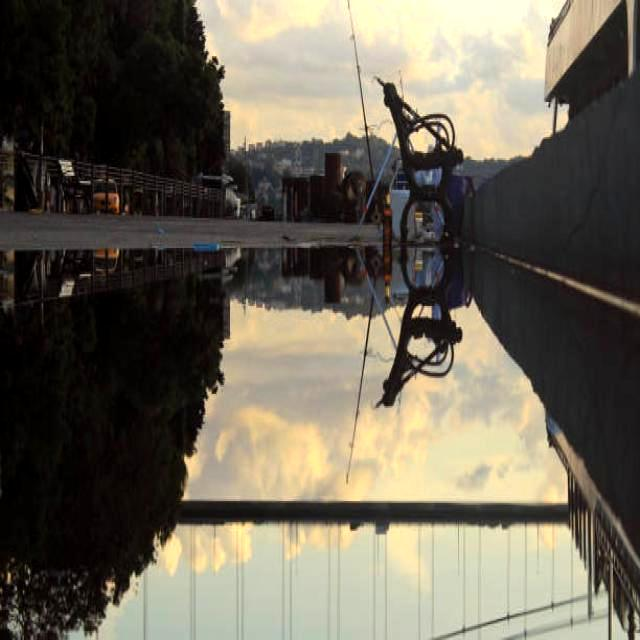Broken Pole: (357, 109, 414, 231)
